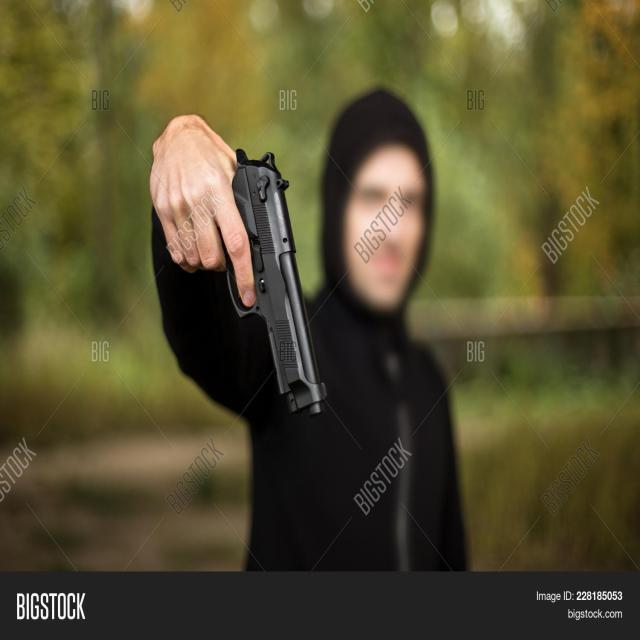HandGun: (224, 149, 326, 418)
